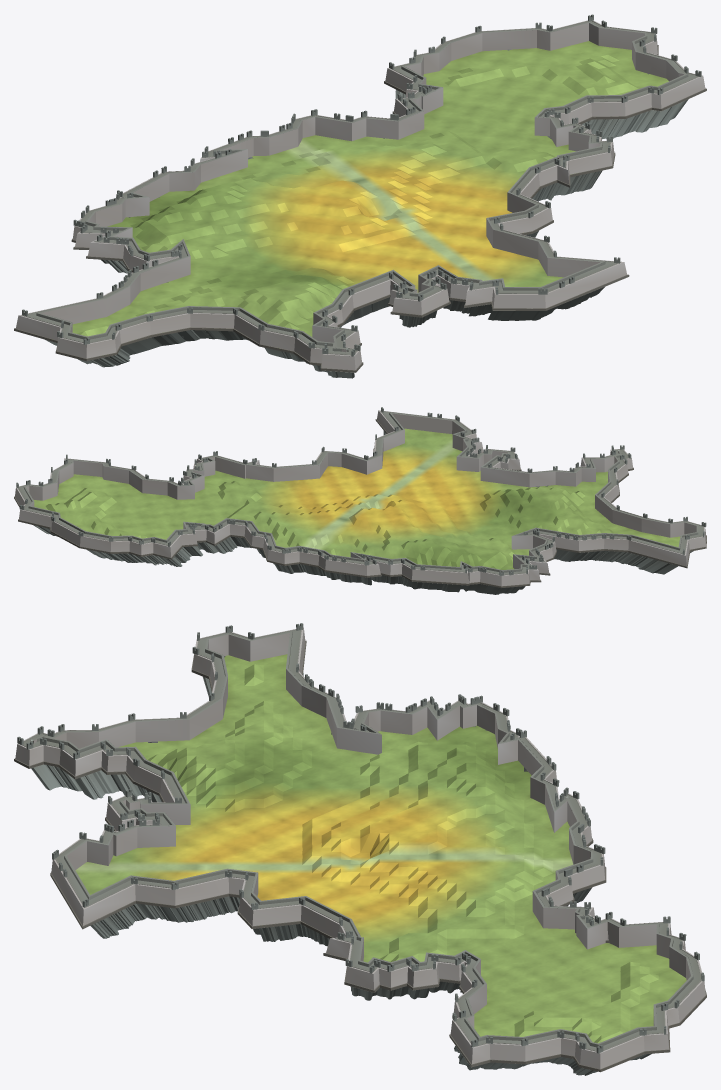
3 renders of one model, top to bottom at view 1: azimuth 30°, elevation 25°; view 2: azimuth 150°, elevation 25°; view 3: azimuth 270°, elevation 25°, orthographic. The views are drawn at different scales.
Visible parts, largest first — view 1: ground_cdc90249; view 2: ground_cdc90249; view 3: ground_cdc90249.
Part boxes in pixels (bbox=[...]): ground_cdc90249: bbox=[14, 14, 706, 378]; ground_cdc90249: bbox=[14, 407, 706, 594]; ground_cdc90249: bbox=[14, 623, 706, 1075].
Bounding box in the file's own units: 158 × 7.61 × 108.
3 materials, 1 textured.
